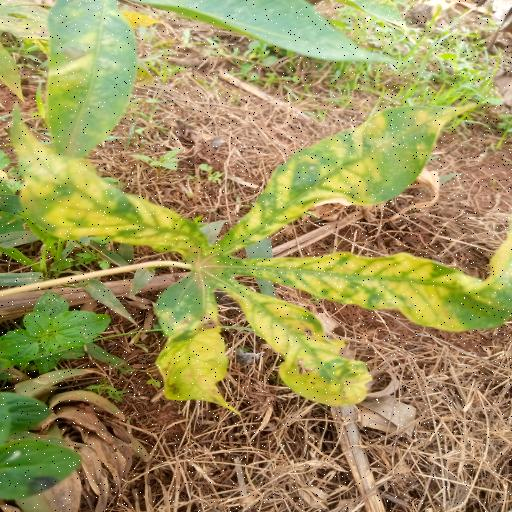Cassava_Mosaic: (5, 96, 512, 413)
